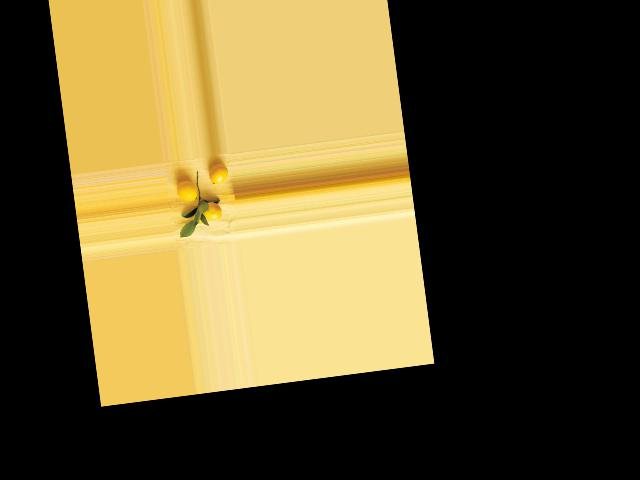lemon: (205, 159, 229, 186)
